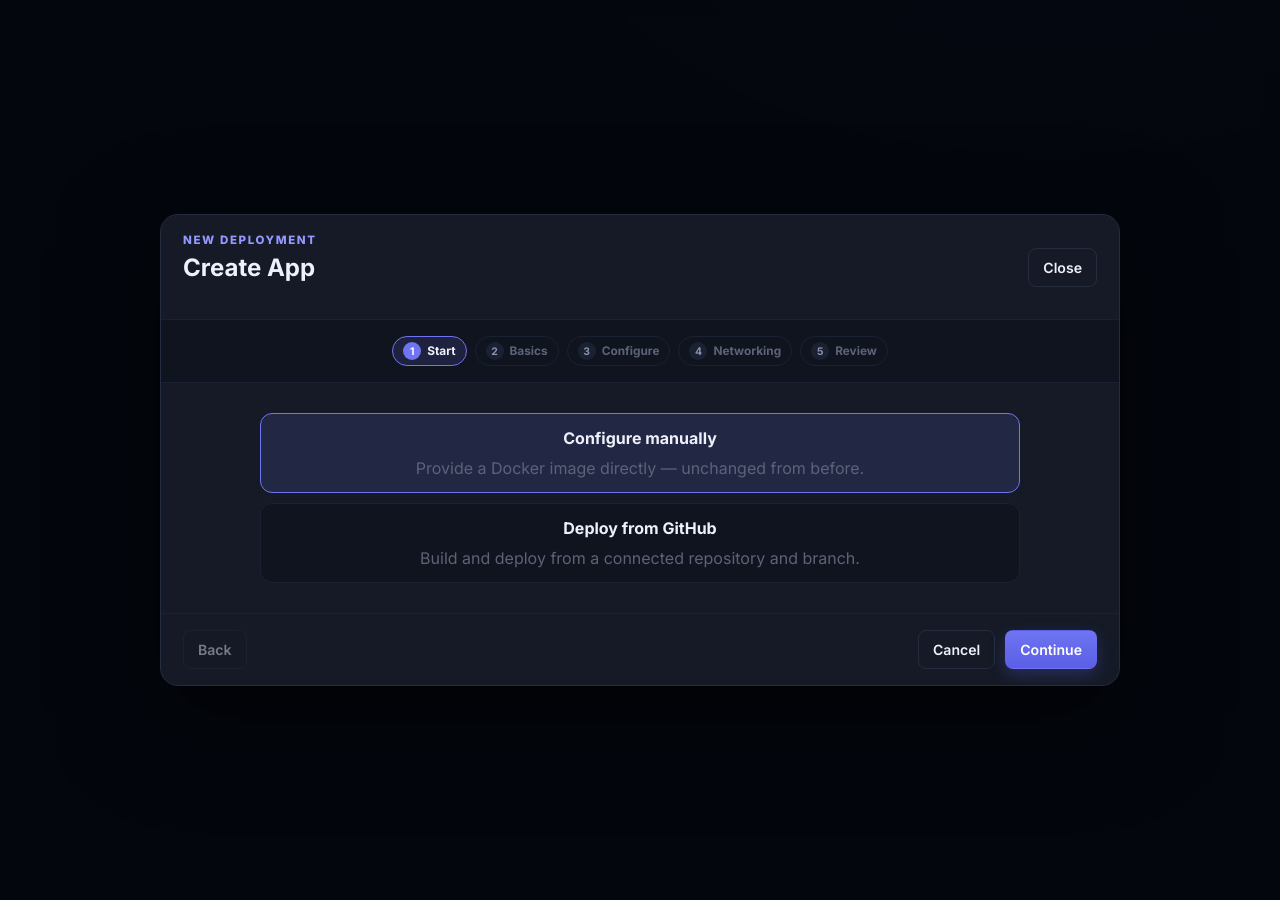
Test: CreateAppWizard — repository loading, pagination, and search › search matches repository name, owner, and full name, case-insensitively
The width and height of the screenshot is (1280, 900).
Click the text "Deploy from GitHub".
click(640, 528)  # box [563,518,717,538]
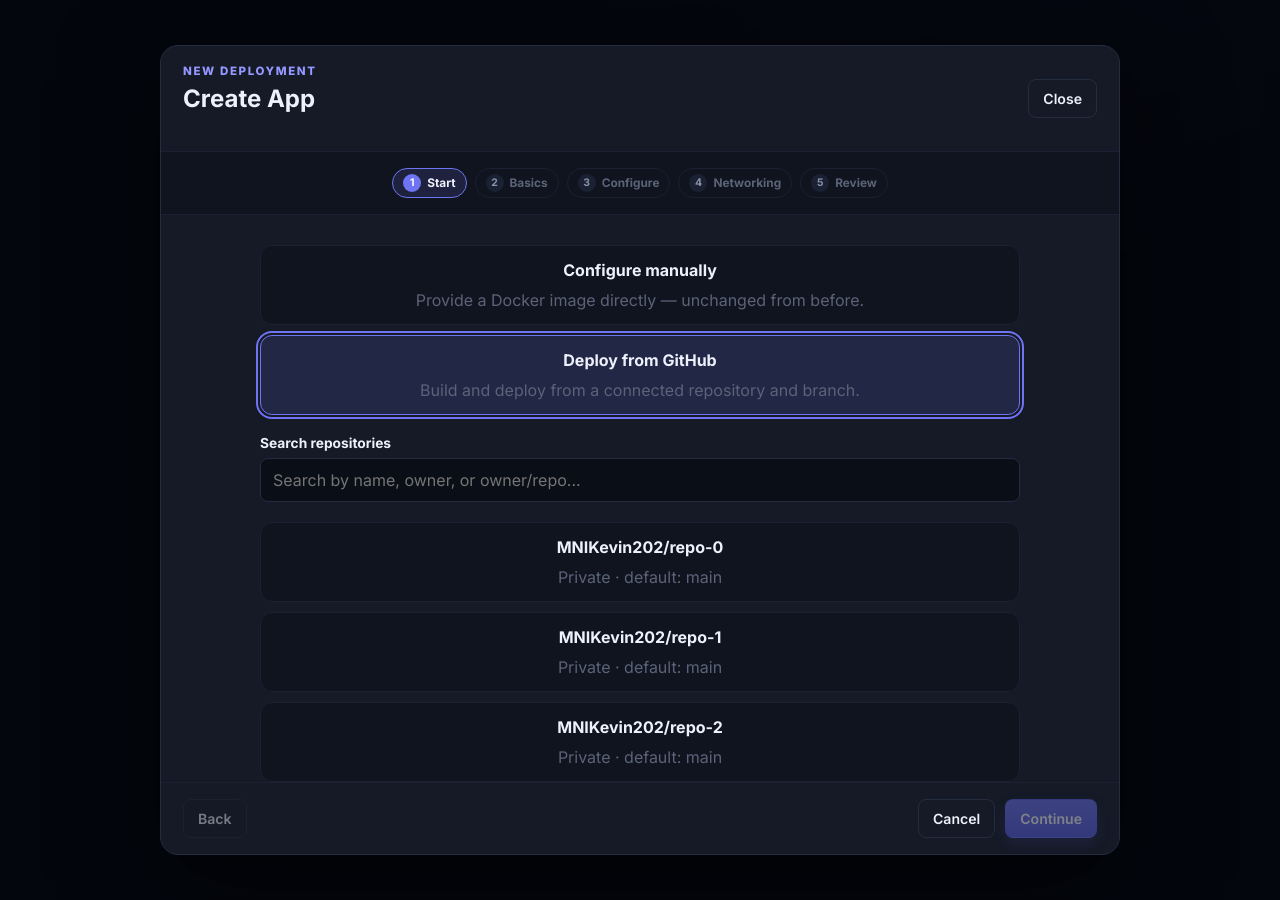
Type "specialrepo" into the field with placeholder "Search by name, owner, or owner/repo...".
click(640, 480); type("specialrepo")  # box [260,458,1020,502]
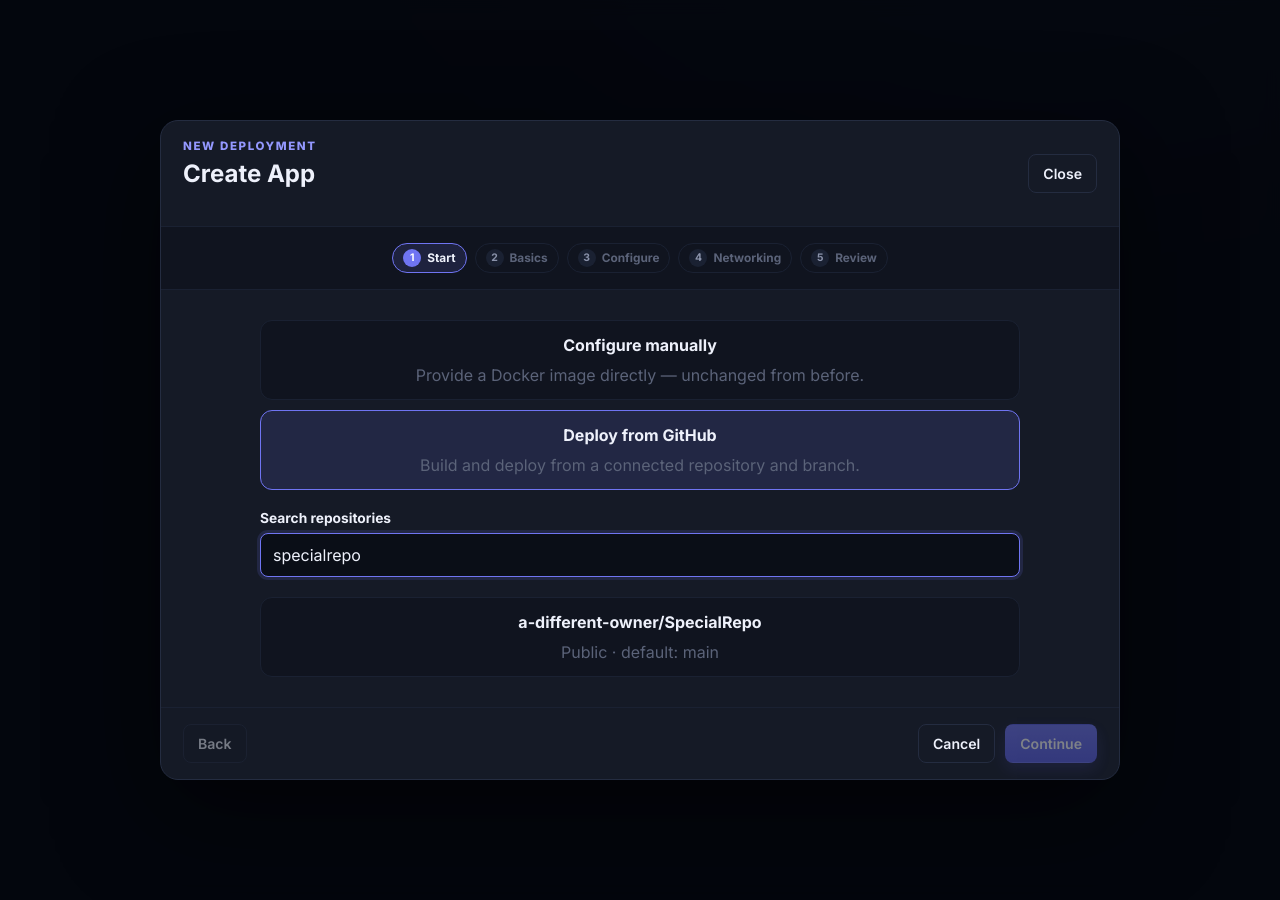
Expected: the text "a-different-owner/SpecialRepo" is shown, [518,612,762,632]
Expected: the button "MNIKevin202/repo-0" is gone
Clear the field with placeholder "Search by name, owner, or owner/repo..." at (640, 555), box [260,533,1020,577]
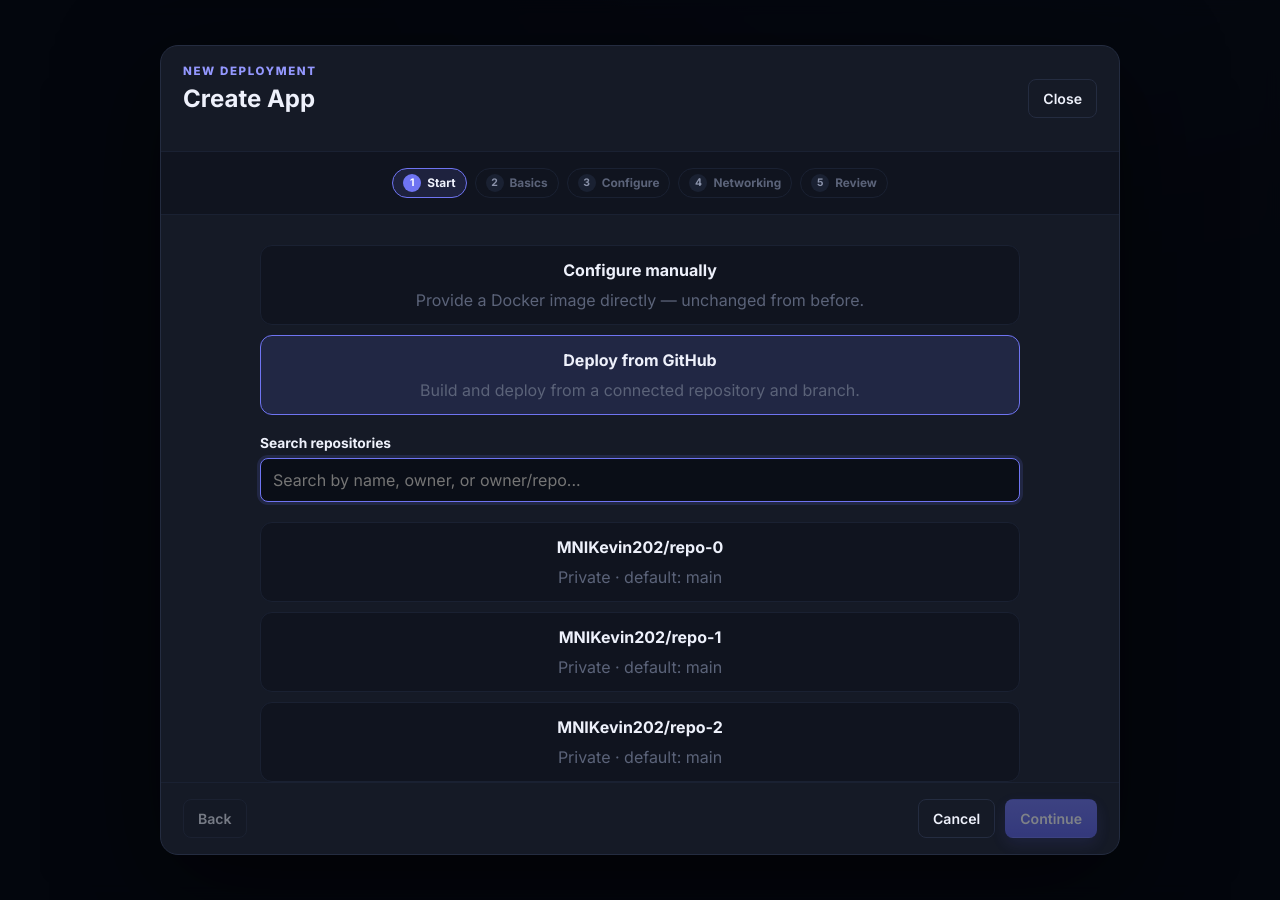
Type "A-DIFFERENT-OWNER" into the field with placeholder "Search by name, owner, or owner/repo...".
click(640, 480); type("A-DIFFERENT-OWNER")  # box [260,458,1020,502]
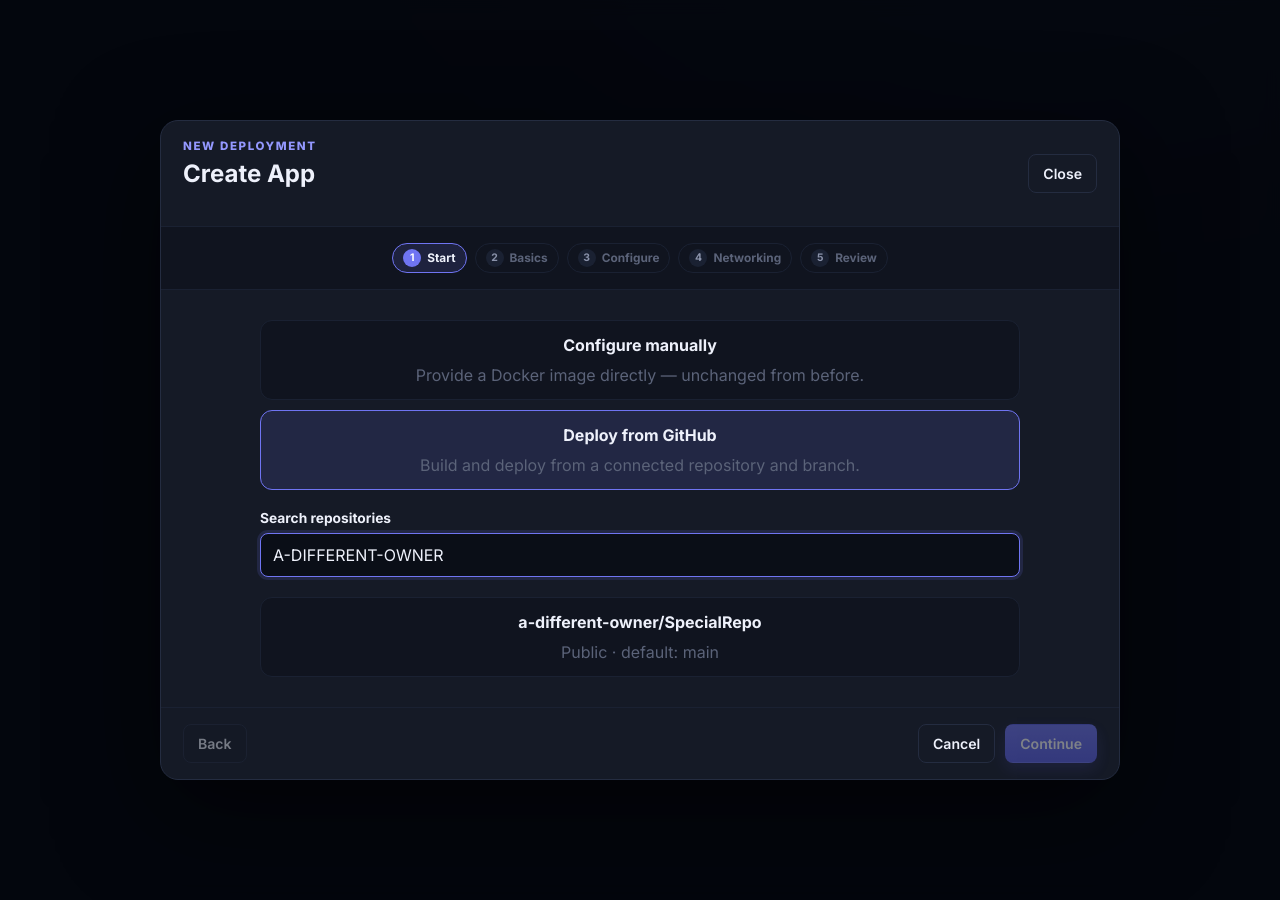
Expected: the text "a-different-owner/SpecialRepo" is shown, [518,612,762,632]
